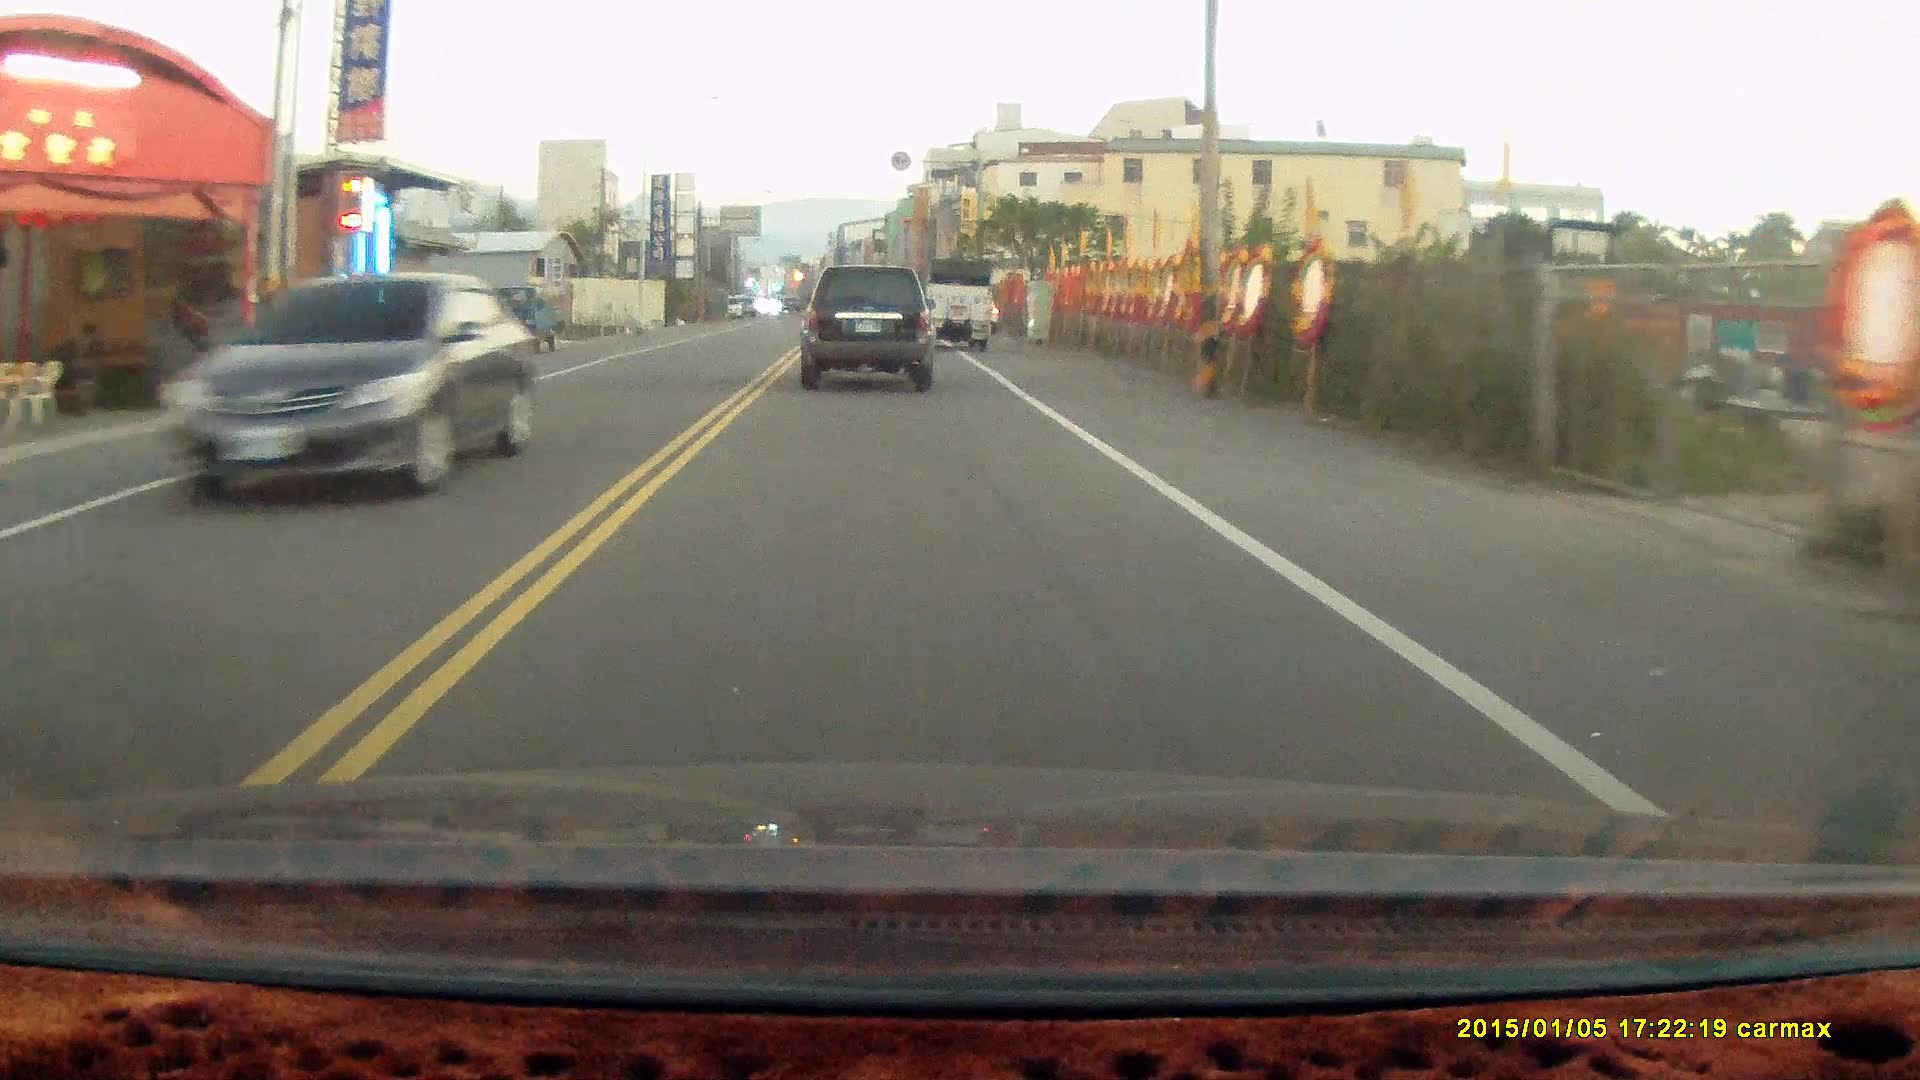vehicle: (146, 276, 527, 512), (800, 265, 938, 396), (924, 258, 1000, 352)
